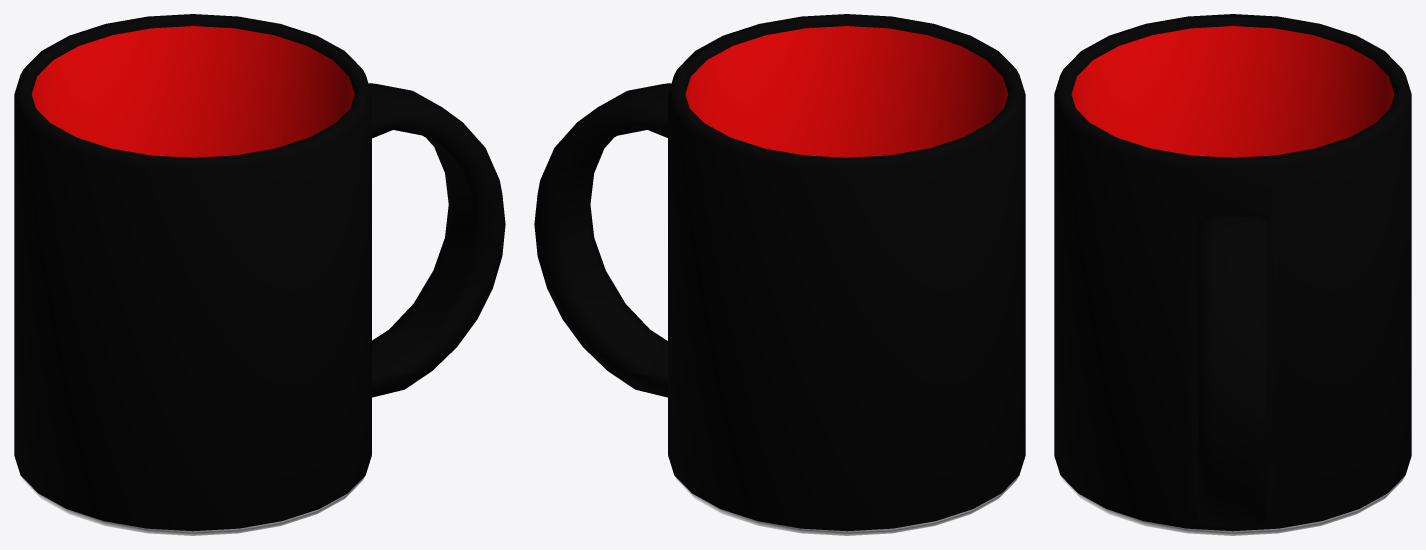
File: mug_11_origin_gt_4.dae
3 views of the same model, side by side, from view 1: azimuth 30°, elevation 25°; view 2: azimuth 150°, elevation 25°; view 3: azimuth 270°, elevation 25° (orthographic).
Visible parts, largest first — view 1: SketchUp (×4); view 2: SketchUp (×4); view 3: SketchUp (×4).
Part boxes in pixels (x1,y1,x2,y2): SketchUp (×4): (14, 14, 505, 535); SketchUp (×4): (534, 14, 1025, 535); SketchUp (×4): (1054, 14, 1411, 535).
Bounding box in the file's own units: 4.79 × 3.25 × 3.75.
